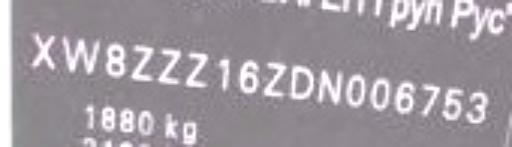letter: (60, 32, 102, 77), (30, 29, 60, 74), (129, 42, 159, 83), (316, 66, 346, 107), (262, 56, 288, 101), (104, 41, 132, 80), (156, 47, 184, 86), (186, 50, 212, 91), (286, 66, 316, 101), (392, 77, 418, 116), (416, 80, 442, 119), (440, 83, 466, 122), (464, 89, 490, 128), (370, 74, 394, 113), (236, 59, 262, 94), (342, 73, 366, 108), (216, 54, 232, 95)
